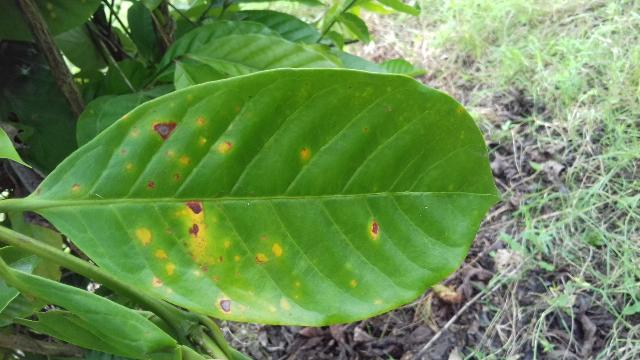rust_level_2: (10, 63, 503, 329)
